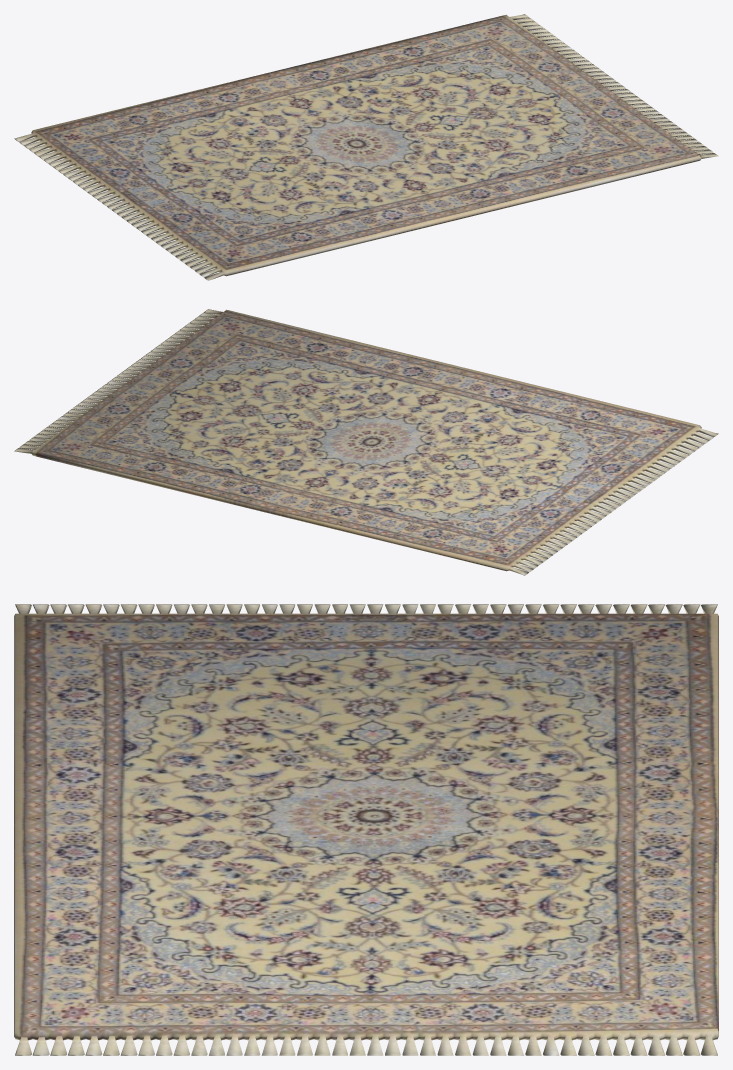
File: carpet.fbx
3 views of the same model, one above another, from view 1: azimuth 30°, elevation 25°; view 2: azimuth 150°, elevation 25°; view 3: azimuth 270°, elevation 25° (orthographic). The views are drawn at different scales.
Parts seen in each view (by area): view 1: Cube_009; view 2: Cube_009; view 3: Cube_009.
Part boxes in pixels (x1,y1,x2,y2): Cube_009: (14, 14, 718, 280); Cube_009: (14, 309, 718, 575); Cube_009: (14, 604, 718, 1055).
Size of the model in its own units: 5.92 by 0.0479 by 3.91.
